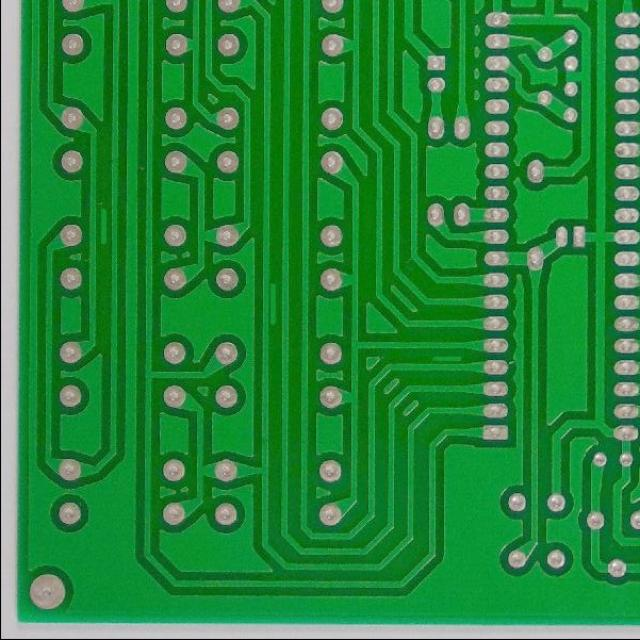spurious_copper: (92, 202, 112, 252), (262, 277, 281, 329), (425, 352, 466, 366)
